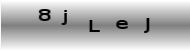8: (37, 8, 52, 22)
J: (142, 17, 150, 34)
L: (87, 19, 101, 33)
e: (114, 19, 131, 30)
j: (59, 9, 69, 26)
